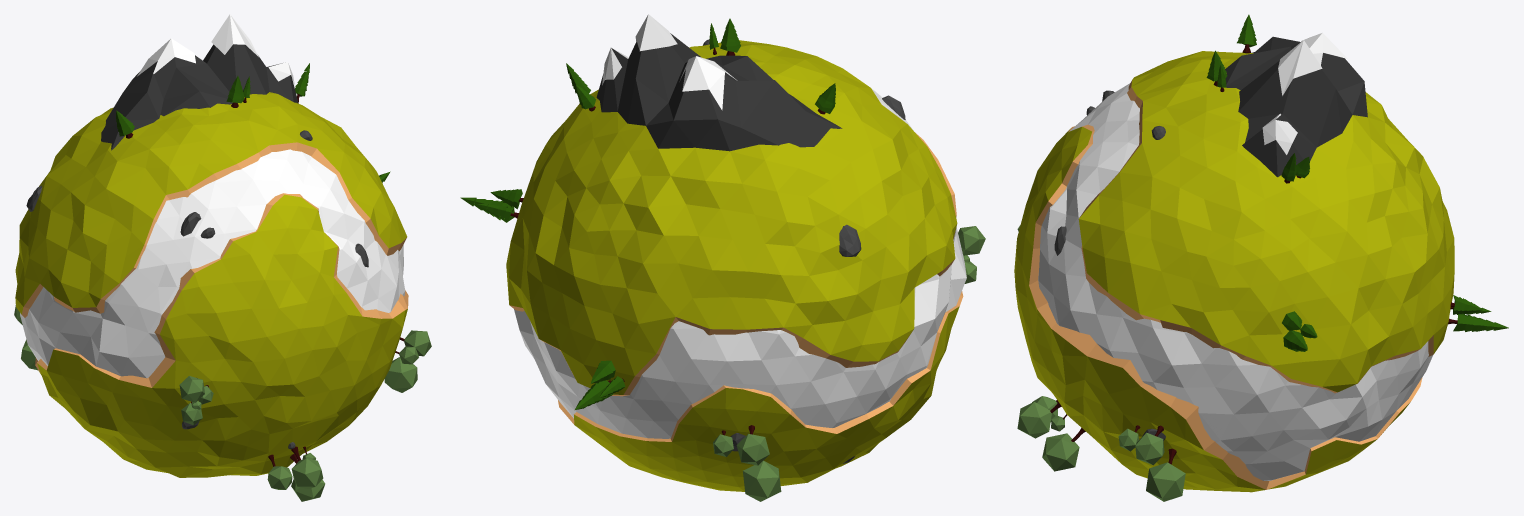
File: green_planet.glb
3 views of the same model, side by side, from view 1: azimuth 30°, elevation 25°; view 2: azimuth 150°, elevation 25°; view 3: azimuth 270°, elevation 25° (orthographic). The views are drawn at different scales.
Visible parts, largest first — view 1: PLANET_EARTH, PLANET_EARTH_REFLECT_WATER, PLANET_EARTH_MOUNTAIN, LOWPOLY_Tree_Pine_THIN, LOWPOLY_Tree_Pine, PLANET_EARTH_STONE; view 2: PLANET_EARTH, PLANET_EARTH_REFLECT_WATER, PLANET_EARTH_MOUNTAIN, LOWPOLY_Tree_Pine, LOWPOLY_Tree_Pine_THIN, PLANET_EARTH_STONE; view 3: PLANET_EARTH, PLANET_EARTH_REFLECT_WATER, PLANET_EARTH_MOUNTAIN, LOWPOLY_Tree_Pine_THIN, LOWPOLY_Tree_Pine, PLANET_EARTH_STONE.
Part boxes in pixels (x1=…): PLANET_EARTH: x1=15, y1=92, x2=408, y2=477; PLANET_EARTH_REFLECT_WATER: x1=20, y1=149, x2=405, y2=378; PLANET_EARTH_MOUNTAIN: x1=101, y1=14, x2=298, y2=150; LOWPOLY_Tree_Pine_THIN: x1=14, y1=305, x2=431, y2=501; LOWPOLY_Tree_Pine: x1=116, y1=63, x2=390, y2=182; PLANET_EARTH_STONE: x1=26, y1=130, x2=368, y2=449; PLANET_EARTH: x1=506, y1=40, x2=963, y2=491; PLANET_EARTH_REFLECT_WATER: x1=514, y1=89, x2=966, y2=438; PLANET_EARTH_MOUNTAIN: x1=596, y1=14, x2=842, y2=151; LOWPOLY_Tree_Pine: x1=460, y1=18, x2=835, y2=409; LOWPOLY_Tree_Pine_THIN: x1=713, y1=226, x2=985, y2=501; PLANET_EARTH_STONE: x1=703, y1=39, x2=905, y2=463; PLANET_EARTH: x1=1014, y1=51, x2=1454, y2=492; PLANET_EARTH_REFLECT_WATER: x1=1038, y1=83, x2=1432, y2=480; PLANET_EARTH_MOUNTAIN: x1=1225, y1=33, x2=1367, y2=177; LOWPOLY_Tree_Pine_THIN: x1=1017, y1=225, x2=1185, y2=501; LOWPOLY_Tree_Pine: x1=1206, y1=14, x2=1508, y2=351; PLANET_EARTH_STONE: x1=1054, y1=90, x2=1165, y2=440.
Size of the model in its own units: 2.3 by 2.37 by 2.31.
Materials: 2 (1 with a texture image).
